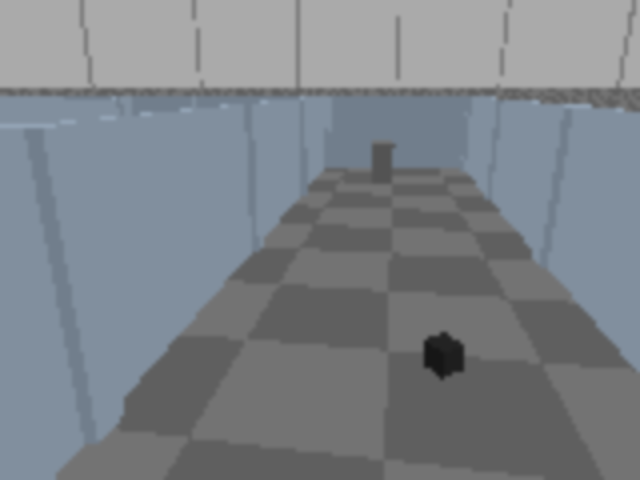obstacle: (370, 140, 394, 185)
puck: (422, 333, 466, 378)
